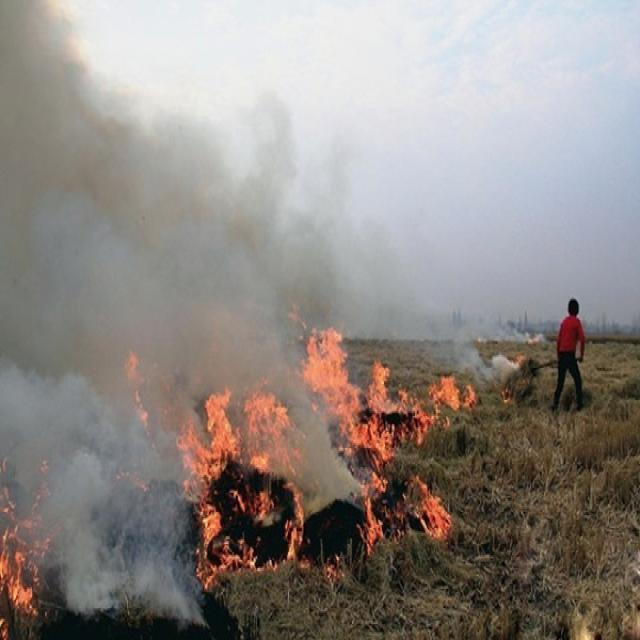Fire: (174, 309, 474, 590), (0, 467, 54, 621), (122, 349, 148, 427)
Smoke: (1, 2, 372, 630), (440, 298, 520, 384), (472, 308, 546, 346)
